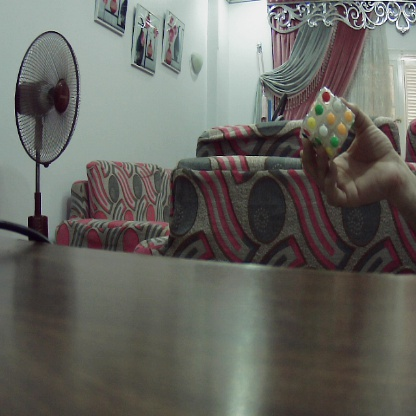Rubix Cube: (304, 91, 349, 150)
